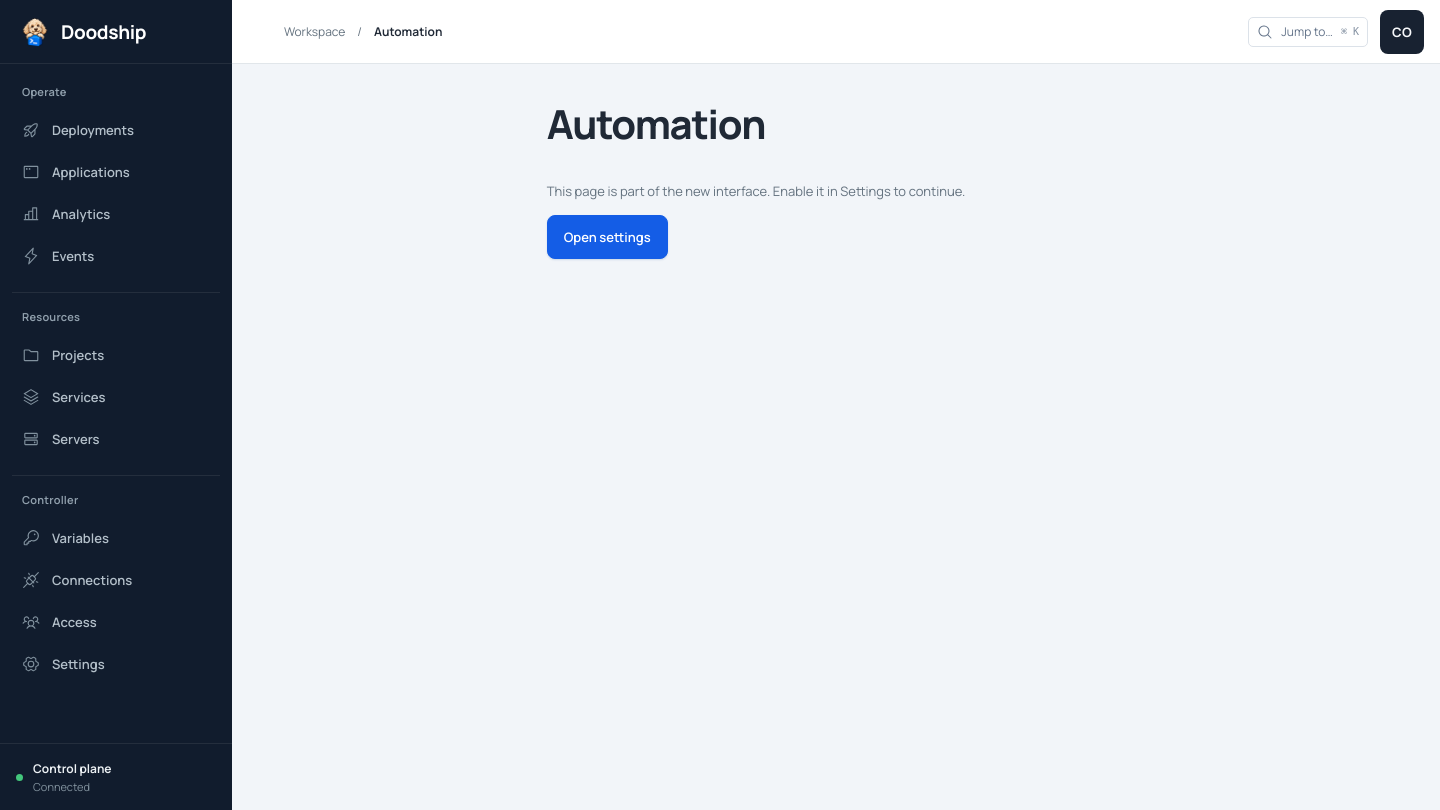
Test: requests automation credentials only after opting in and opening their page
expect the text "This page is part of the new interface. Enable it in Settings to continue." is shown: met, box left=547, top=182, right=965, bottom=200
Click the button "Open settings": (607, 237) left=547, top=215, right=668, bottom=259
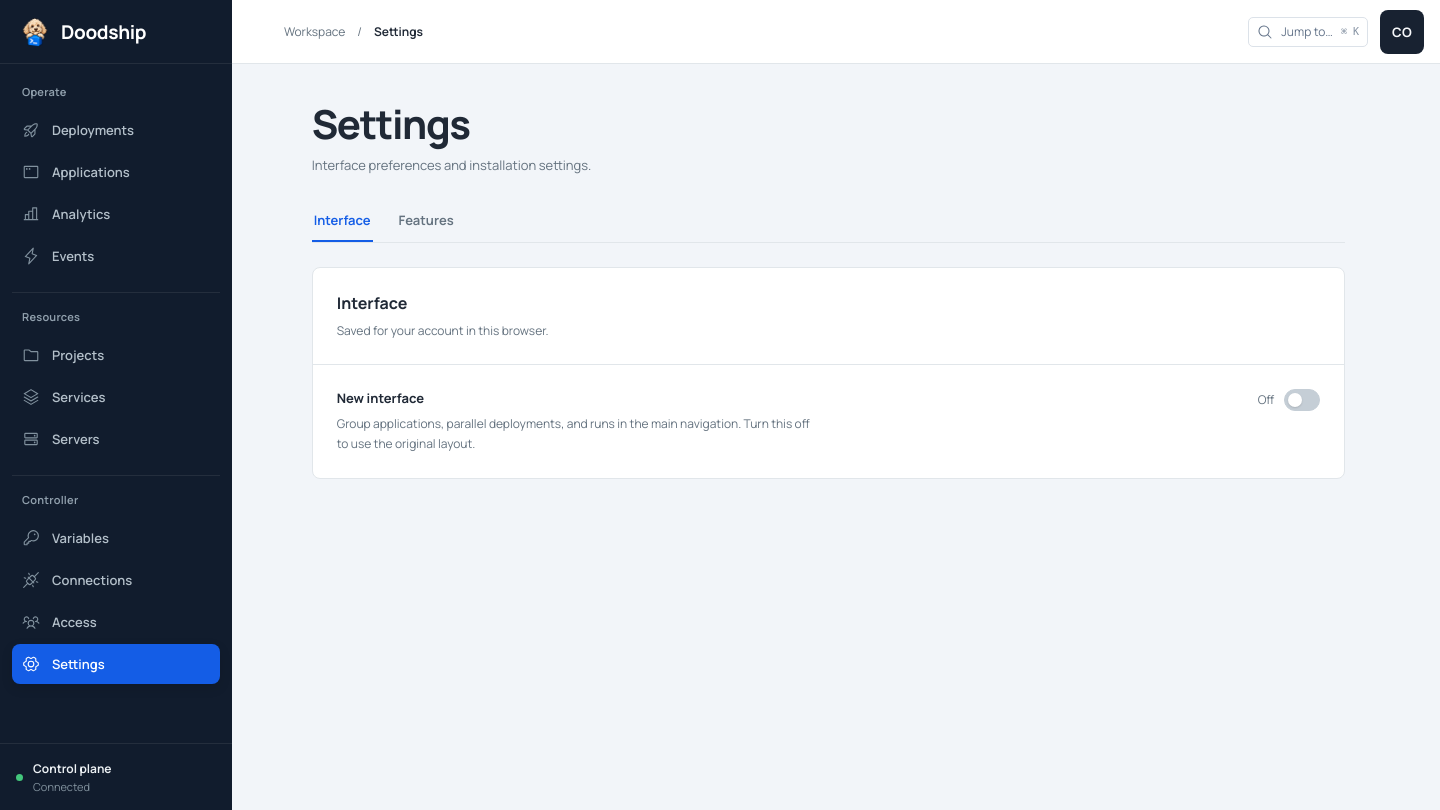
Click the switch labelled "New interface": (380, 398) left=337, top=389, right=424, bottom=407
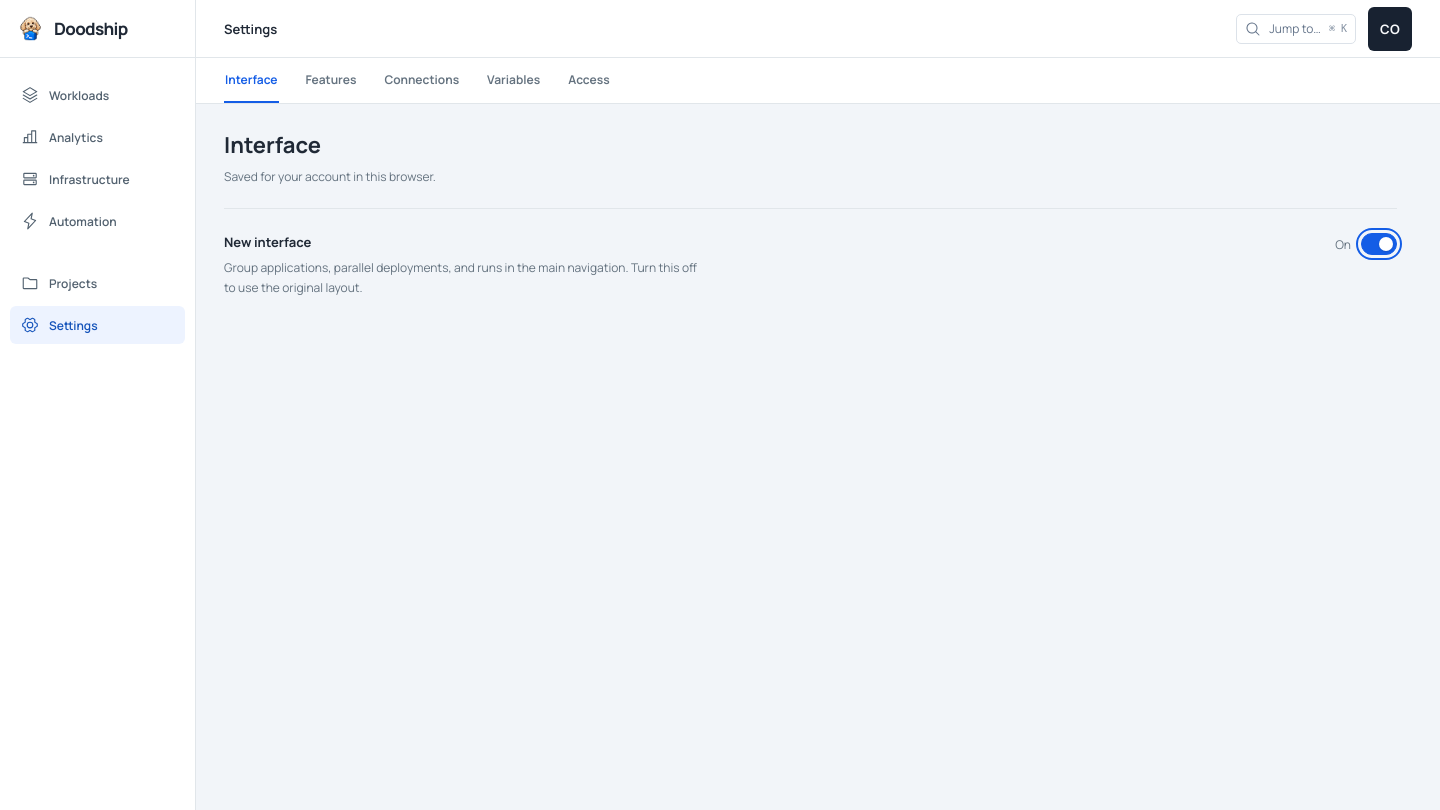
Click the link "Automation": (69, 221) left=21, top=212, right=117, bottom=230
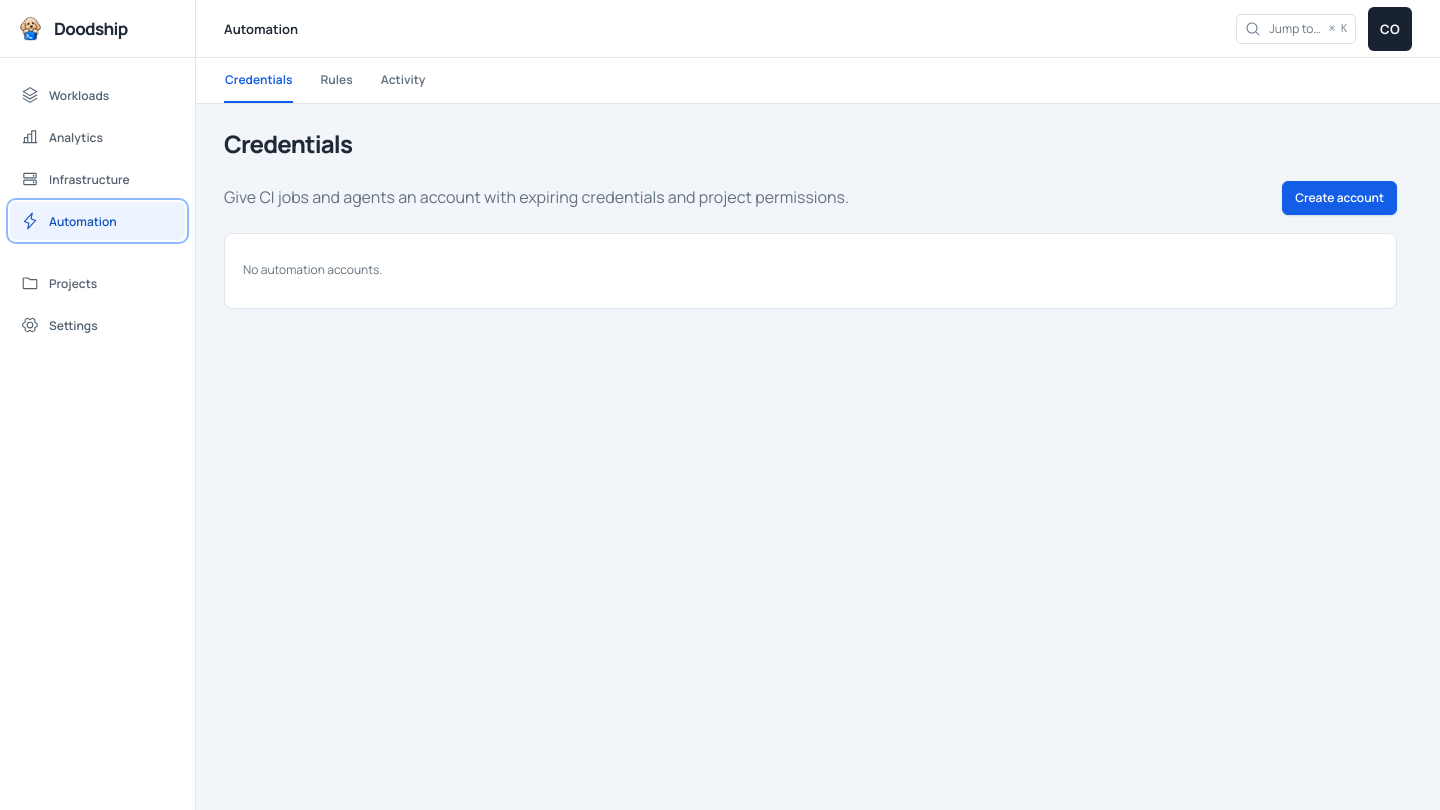
expect the heading "Credentials" is shown: met, box left=224, top=130, right=352, bottom=159
Click the link "Settings": (59, 325) left=21, top=316, right=98, bottom=334
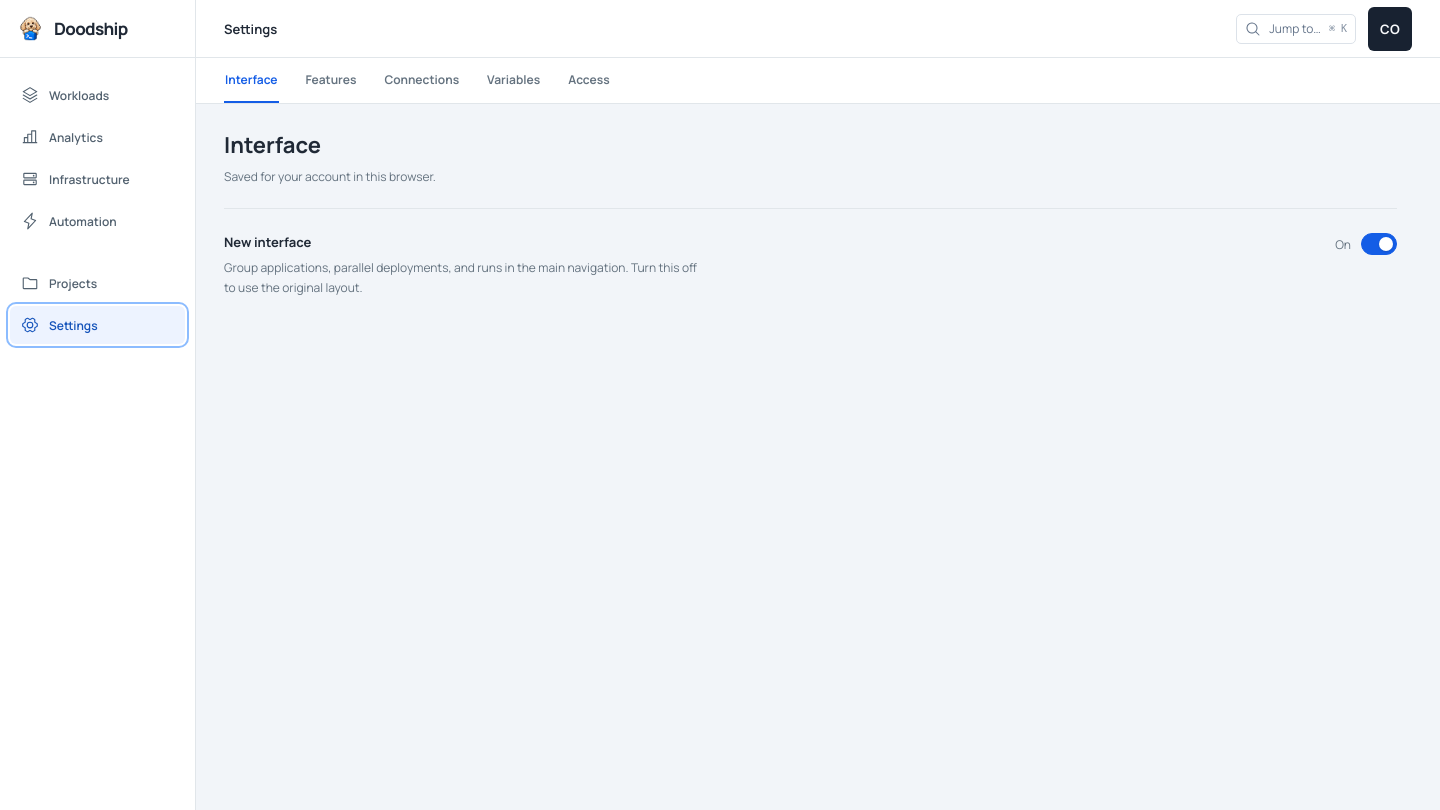
Click the switch labelled "New interface": (268, 242) left=224, top=233, right=311, bottom=251
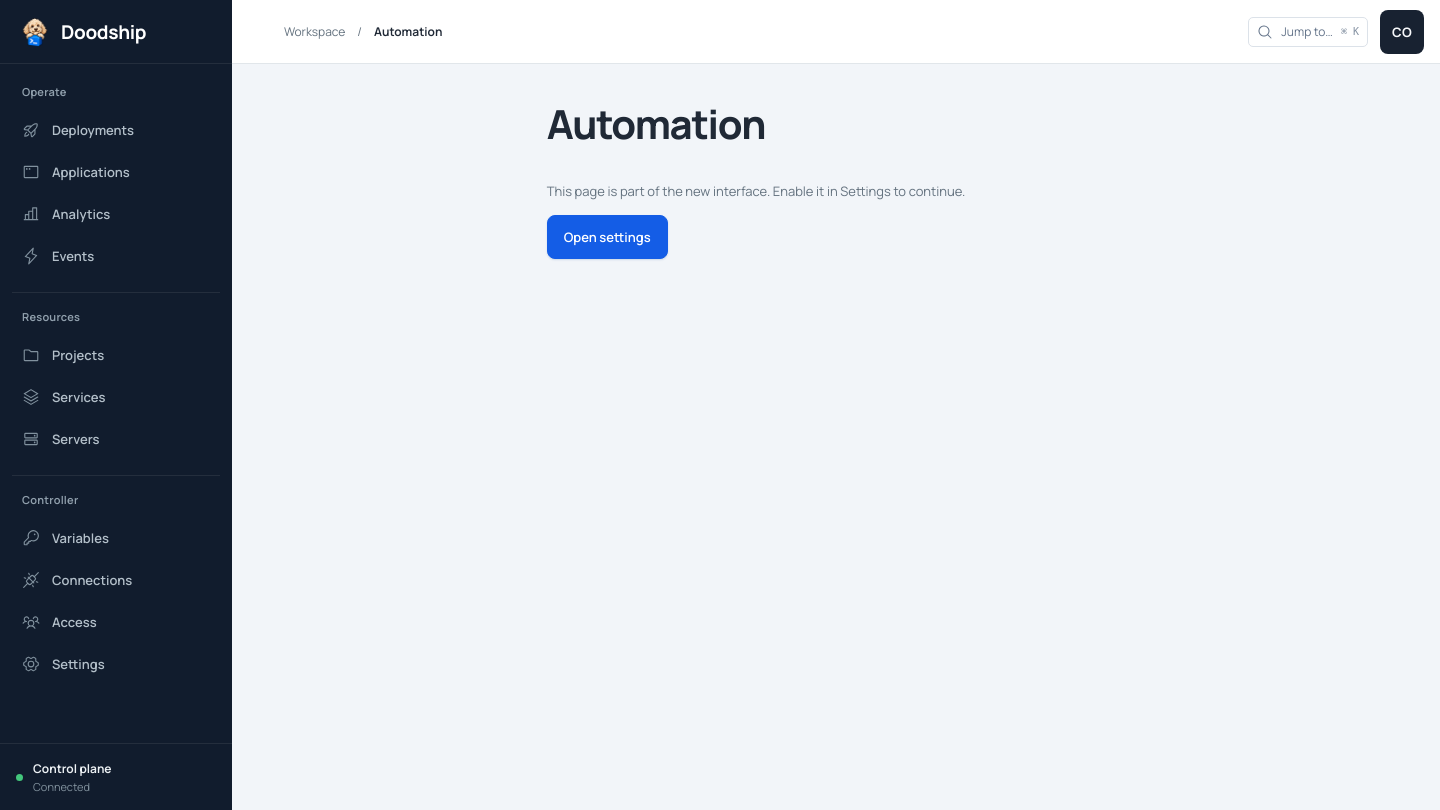
expect the text "This page is part of the new interface. Enable it in Settings to continue." is shown: met, box left=547, top=182, right=965, bottom=200
